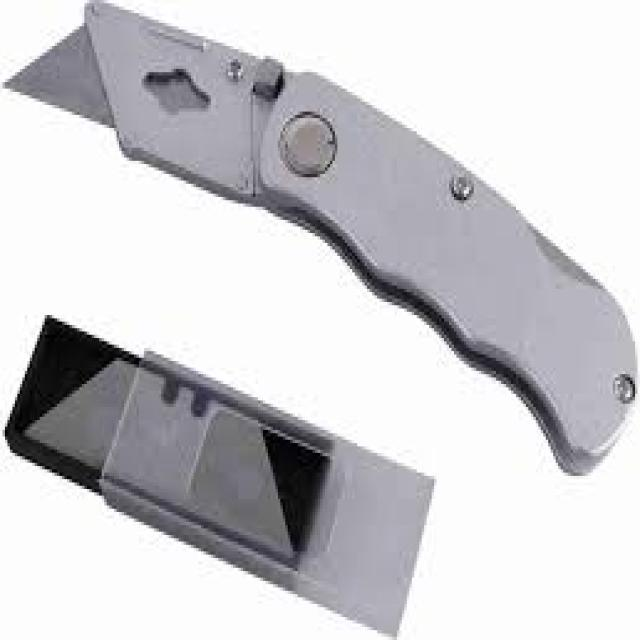cutter: (0, 0, 640, 486)
